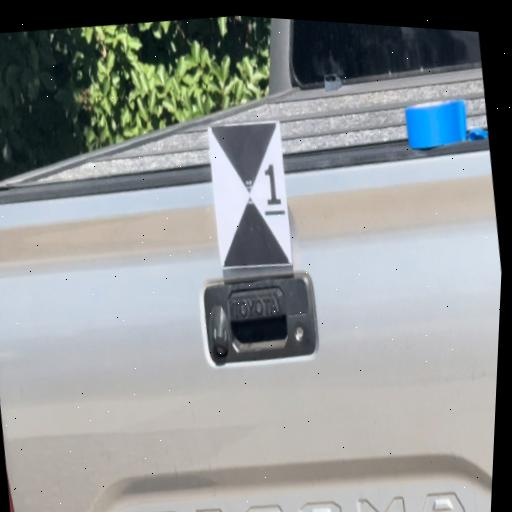target1: (202, 118, 298, 275)
